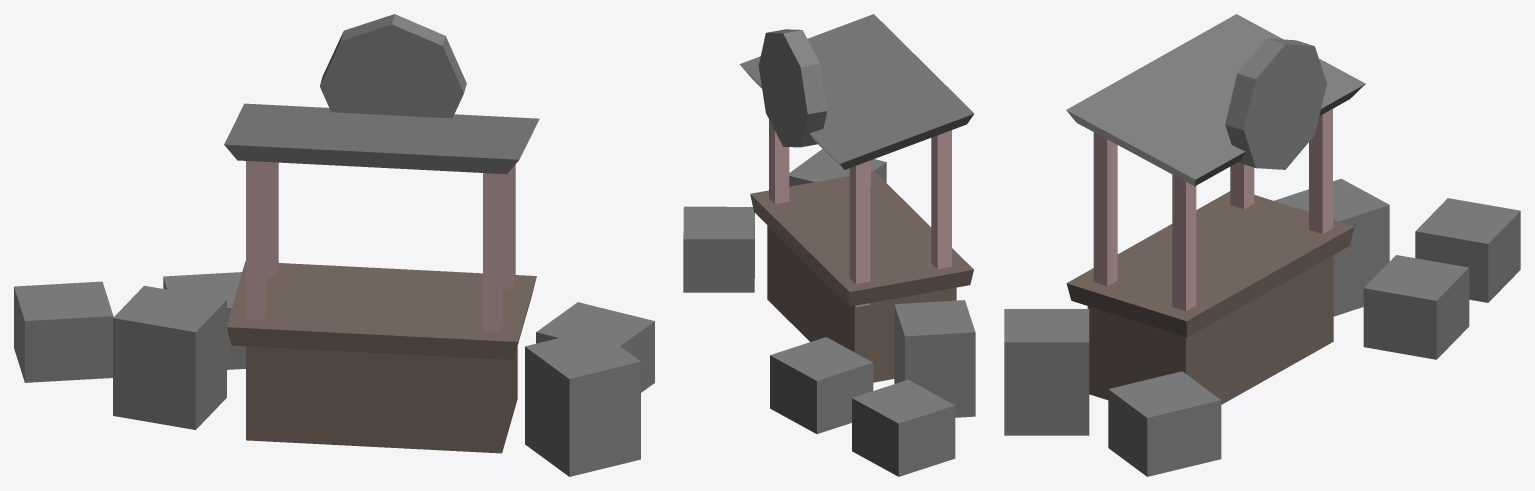
The model's file is Lvl1.fbx.
3 renders of one model, left to right at view 1: azimuth 30°, elevation 25°; view 2: azimuth 150°, elevation 25°; view 3: azimuth 270°, elevation 25°, orthographic. The views are drawn at different scales.
Parts seen in each view (by area): view 1: Lvl1; view 2: Lvl1; view 3: Lvl1.
Part boxes in pixels (bbox=[...]): Lvl1: bbox=[14, 14, 654, 476]; Lvl1: bbox=[683, 14, 975, 476]; Lvl1: bbox=[1004, 14, 1520, 476].
Size of the model in its own units: 211 by 155 by 209.
